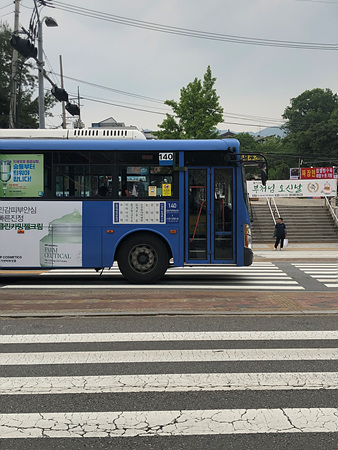entrance: (182, 149, 245, 269)
